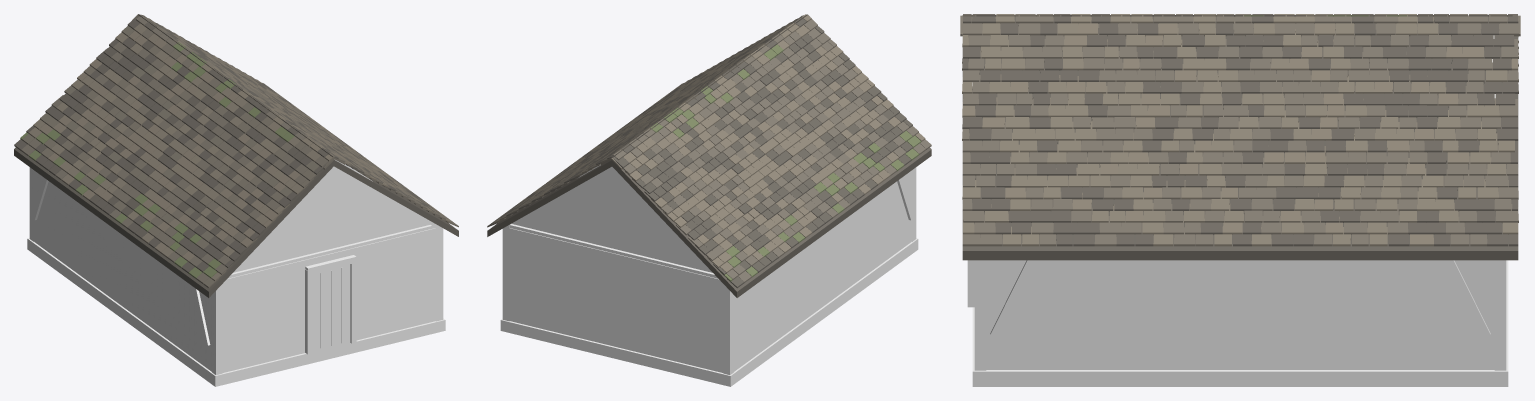
The model's file is cottage_C.glb.
The picture shows the model from 3 angles, left to right: view 1: azimuth 30°, elevation 25°; view 2: azimuth 150°, elevation 25°; view 3: azimuth 270°, elevation 25°; orthographic projection. The views are drawn at different scales.
Parts seen in each view (by area): view 1: 09A_ShingleField.002, 08A_SideClay.004, 08A_GableClay.004, 08A_FrontClay.004, 08A_FrontClay.005, 08A_Sill.002, 09A_Deck.004, 08A_Door.002, 09A_Deck.005, 08A_EndWallPlate.004, 08A_CornerPost.008, 08A_CornerPost.010 (+3 smaller); view 2: 09A_ShingleField.002, 08A_RearClay.002, 08A_SideClay.004, 08A_GableClay.005, 08A_Sill.002, 09A_Deck.004, 09A_Deck.005, 08A_EndWallPlate.005, 08A_CornerPost.009, 08A_CornerPost.011; view 3: 09A_ShingleField.002, 08A_SideClay.005, 09A_Deck.005, 08A_Sill.002, 08A_CornerPost.010, 08A_CornerPost.011, 08A_SideBrace.010, 08A_SideBrace.011.
Part boxes in pixels (x1,y1,x2,y2): 09A_ShingleField.002: (14, 14, 458, 288); 08A_SideClay.004: (31, 169, 213, 372); 08A_GableClay.004: (233, 166, 429, 272); 08A_FrontClay.004: (219, 259, 309, 372); 08A_FrontClay.005: (349, 228, 439, 340); 08A_Sill.002: (27, 238, 445, 386); 09A_Deck.004: (14, 147, 333, 297); 08A_Door.002: (312, 264, 350, 352); 09A_Deck.005: (334, 160, 458, 236); 08A_EndWallPlate.004: (228, 225, 434, 278); 08A_CornerPost.008: (212, 284, 222, 374); 08A_CornerPost.010: (436, 228, 443, 321); 09A_ShingleField.002: (487, 14, 931, 288); 08A_RearClay.002: (507, 228, 726, 373); 08A_SideClay.004: (732, 169, 914, 372); 08A_GableClay.005: (512, 167, 712, 272); 08A_Sill.002: (500, 238, 918, 386); 09A_Deck.004: (612, 147, 931, 297); 09A_Deck.005: (487, 160, 611, 236); 08A_EndWallPlate.005: (510, 224, 718, 278); 08A_CornerPost.009: (723, 284, 733, 374); 08A_CornerPost.011: (502, 223, 511, 321); 09A_ShingleField.002: (962, 14, 1518, 246); 08A_SideClay.005: (980, 260, 1500, 369); 09A_Deck.005: (962, 36, 1518, 260); 08A_Sill.002: (972, 260, 1508, 386); 08A_CornerPost.010: (974, 260, 986, 370); 08A_CornerPost.011: (1494, 260, 1506, 370); 08A_SideBrace.010: (990, 260, 1034, 336); 08A_SideBrace.011: (1446, 260, 1490, 336).
Bounding box in the file's own units: 5.78 × 4.53 × 7.87.
